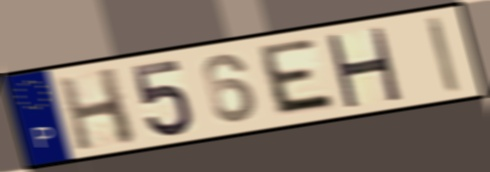5: (127, 56, 196, 139)
6: (200, 52, 261, 125)
E: (257, 35, 341, 118)
H: (54, 64, 140, 153), (322, 26, 404, 109)
I: (423, 13, 463, 97)
